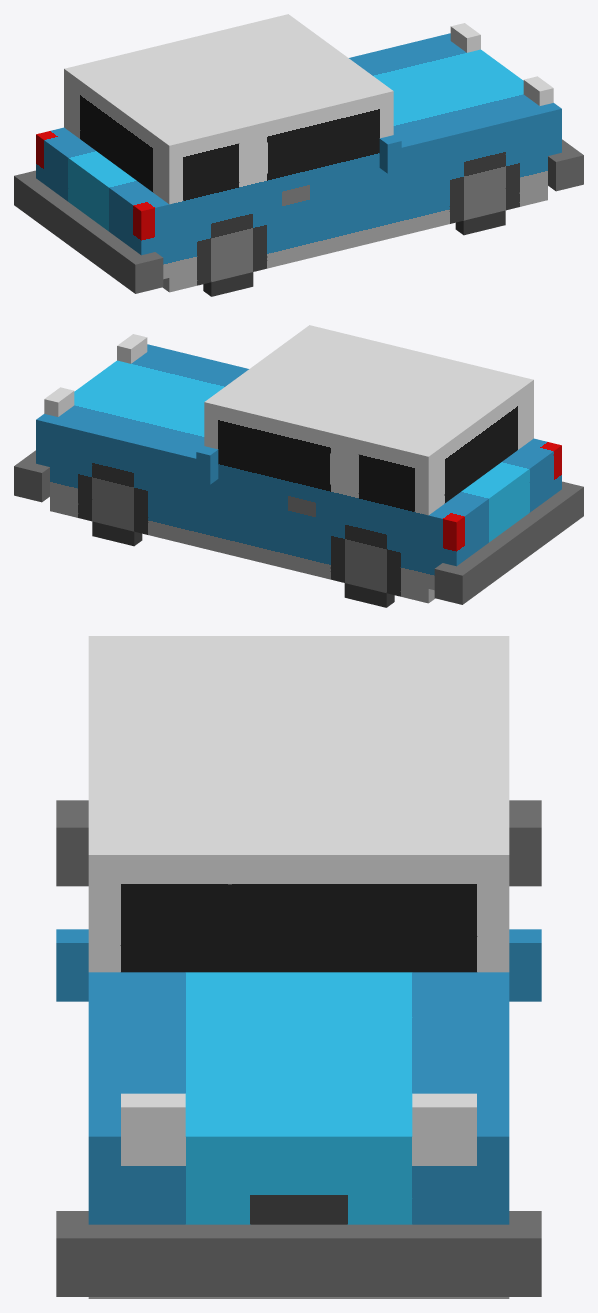
Rendered from veh_wagon1.fbx.
3 renders of one model, top to bottom at view 1: azimuth 30°, elevation 25°; view 2: azimuth 150°, elevation 25°; view 3: azimuth 270°, elevation 25°, orthographic. The views are drawn at different scales.
Parts seen in each view (by area): view 1: veh_wagon1; view 2: veh_wagon1; view 3: veh_wagon1.
Part boxes in pixels (<box>): veh_wagon1: <box>14,14,583,296</box>; veh_wagon1: <box>14,325,583,607</box>; veh_wagon1: <box>56,636,541,1298</box>.
Size of the model in its own units: 3.2 by 1.5 by 1.1.
1 material, 1 textured.
